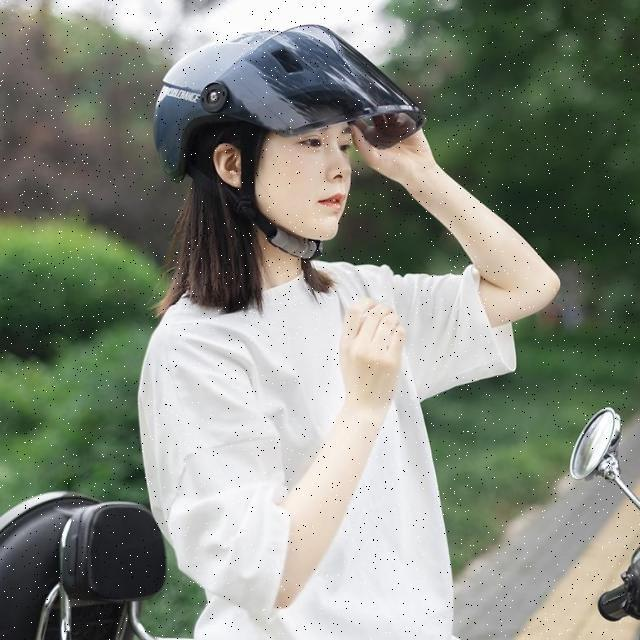helmet: (156, 20, 426, 264)
